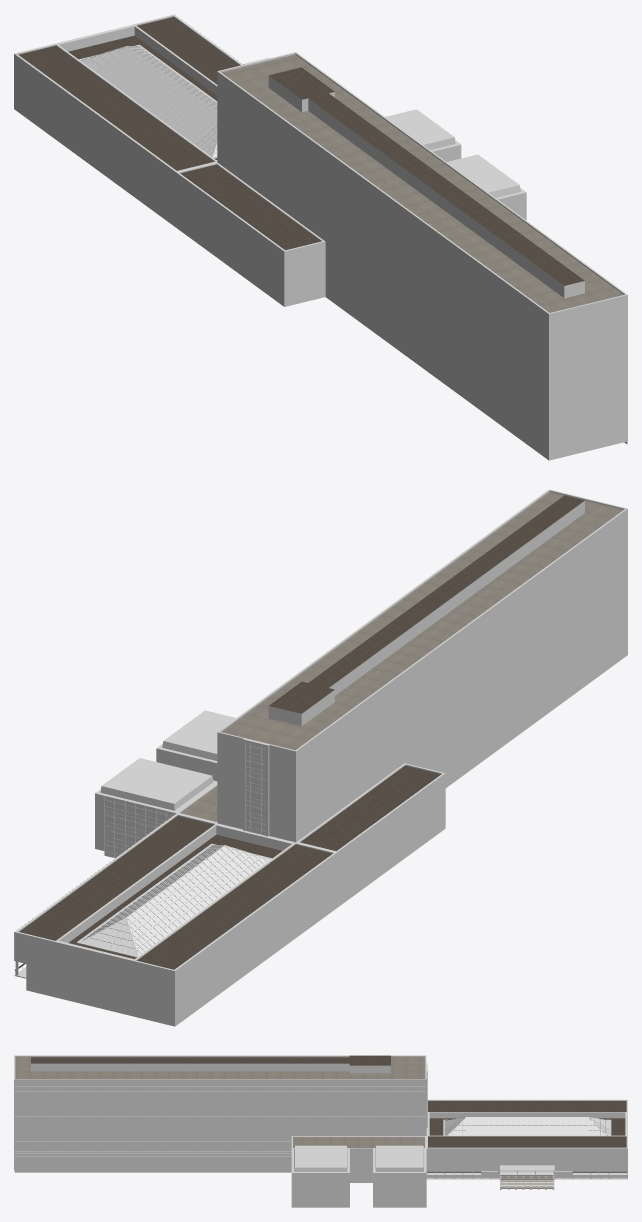
File: Stavebka.fbx
The picture shows the model from 3 angles, top to bottom: view 1: azimuth 30°, elevation 25°; view 2: azimuth 150°, elevation 25°; view 3: azimuth 270°, elevation 25°; orthographic projection. The views are drawn at different scales.
Visible parts, largest first — view 1: Vysoka_V_Dalce, Zaklad, Kopule, Kopule.002; view 2: Vysoka_V_Dalce, Zaklad, Kopule, Vysoka_V_Dalce_Okna_Prednaskovka, Kopule.002, Vysoka_V_Dalce_Okna_Bocni; view 3: Vysoka_V_Dalce_Okna, Vysoka_V_Dalce, Vysoka_V_Dalce_Okna_Dolni, Zaklad, Okna_Horni, Kopule, Okna_Stred, Okna_Dole, Kopule.002, Naslapy, Schody_Sklo, Zabradli_Drevo.
Part boxes in pixels (x1,y1,x2,y2): Vysoka_V_Dalce: (176,52,627,460); Zaklad: (14,14,242,227); Kopule: (97,46,217,144); Kopule.002: (79,44,217,158); Vysoka_V_Dalce: (95,489,627,907); Zaklad: (14,813,337,1026); Kopule: (95,845,253,943); Vysoka_V_Dalce_Okna_Prednaskovka: (104,796,175,858); Kopule.002: (76,843,271,957); Vysoka_V_Dalce_Okna_Bocni: (245,742,265,835); Vysoka_V_Dalce_Okna: (14,1079,425,1135); Vysoka_V_Dalce: (14,1055,427,1207); Vysoka_V_Dalce_Okna_Dolni: (14,1135,291,1172); Zaklad: (426,1099,627,1175); Okna_Horni: (426,1148,627,1166); Kopule: (466,1117,588,1135); Okna_Stred: (427,1166,627,1171); Okna_Dole: (426,1175,627,1179); Kopule.002: (443,1117,611,1135); Naslapy: (500,1175,554,1188); Schody_Sklo: (500,1165,554,1170); Zabradli_Drevo: (426,1171,627,1174).
Size of the model in its own units: 5484 by 3504 by 19365.
